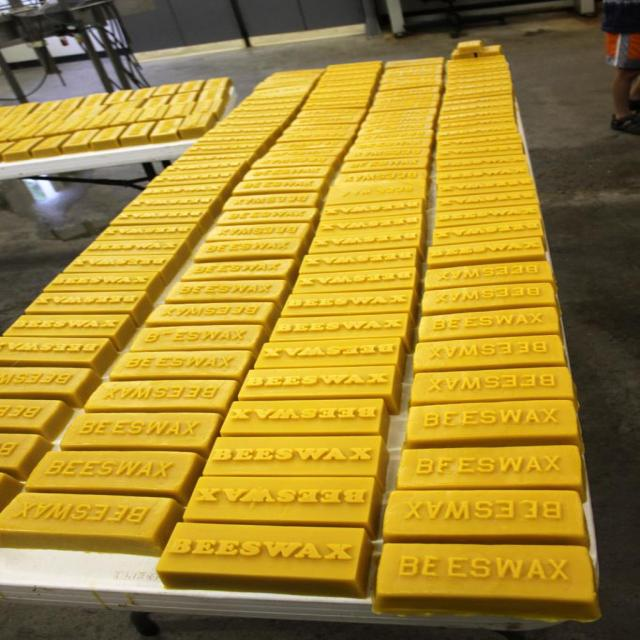Table: (0, 41, 626, 640)
